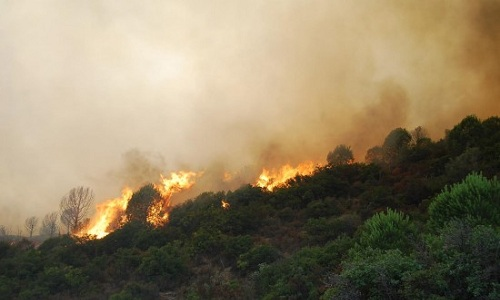fire: (68, 168, 204, 250), (221, 149, 365, 209)
yanwu: (7, 0, 500, 219)
